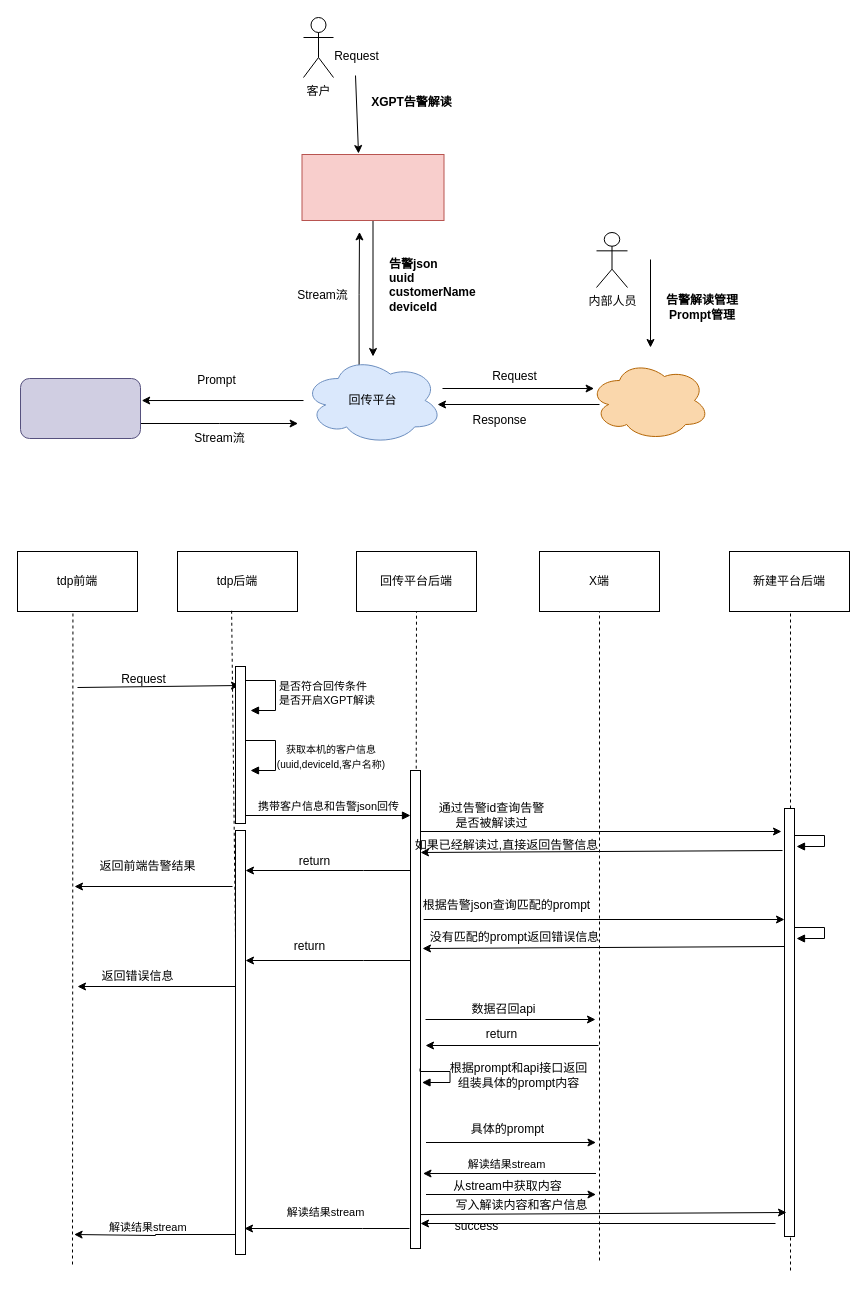
Some shapes in this 867 by 1289 pixel diagram are drawn without their labels. The centre of each missing label's shape, as x and y in pixels:
"TDP" belongs at point (372, 187).
"XGPT" belongs at point (80, 408).
"新建平台" belongs at point (649, 400).
